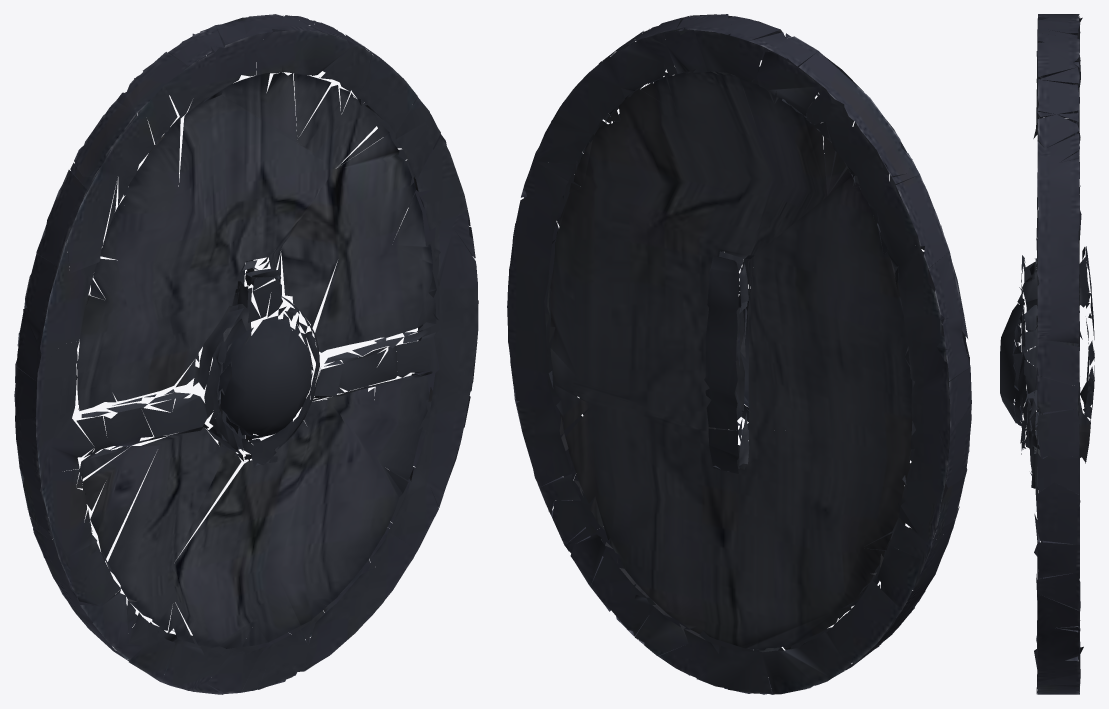
Rendered from norse_shield.glb.
The picture shows the model from 3 angles, left to right: view 1: azimuth 30°, elevation 25°; view 2: azimuth 150°, elevation 25°; view 3: azimuth 270°, elevation 25°; orthographic projection.
Parts seen in each view (by area): view 1: HeaterShield2; view 2: HeaterShield2; view 3: HeaterShield2.
Part boxes in pixels (bbox=[...]): HeaterShield2: bbox=[14, 14, 478, 694]; HeaterShield2: bbox=[507, 14, 971, 694]; HeaterShield2: bbox=[1000, 14, 1094, 694].
Size of the model in its own units: 0.4393 by 0.6205 by 0.0828.
1 material, 1 textured.
